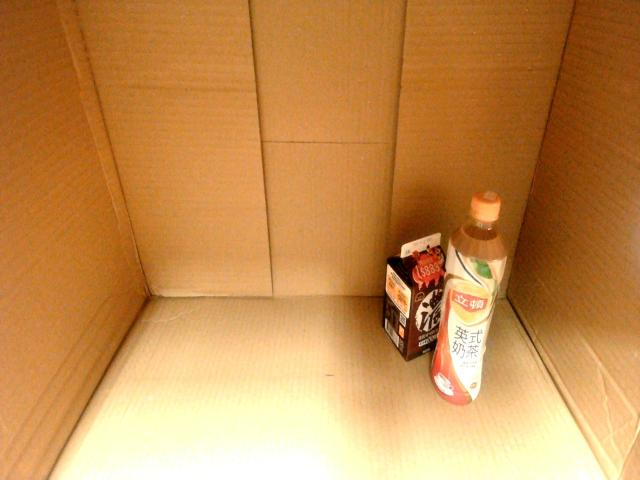bottle: (430, 183, 508, 410)
